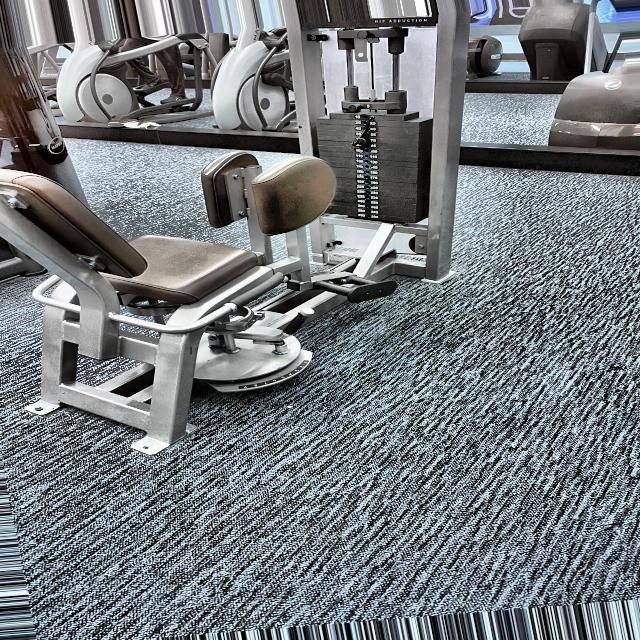hip_adduction_machine: (118, 137, 384, 430), (373, 18, 434, 28)
